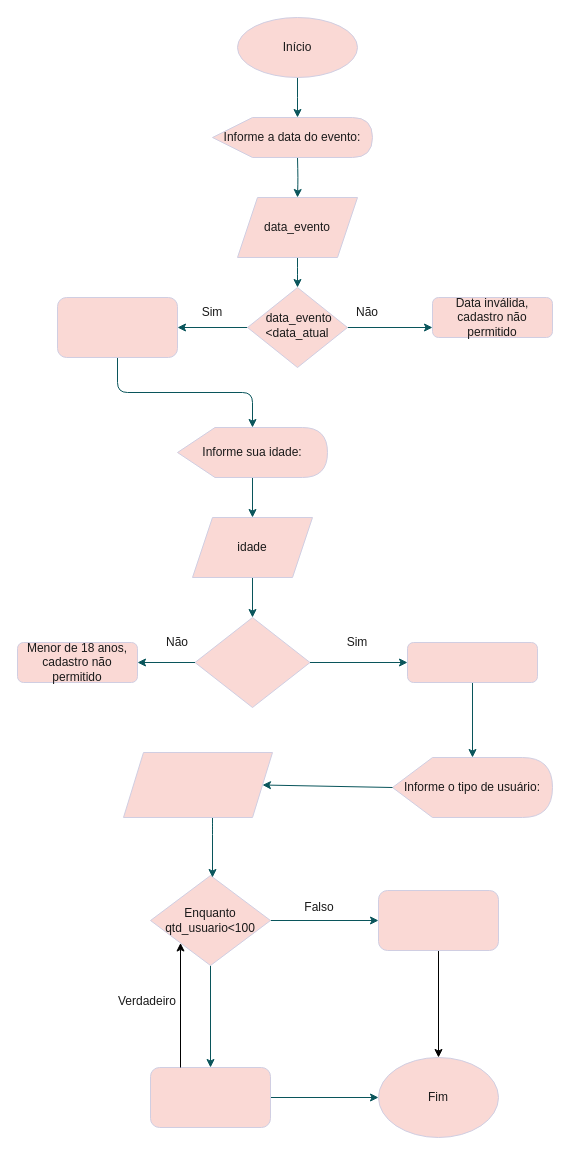
This 570x1155 diagram has some shape labels left out. Each missing label, with the centre of its shape:
Cadastro permitido: the point at 472,662
Cadastro permitido.: the point at 210,1097
Evento Permitido: the point at 117,327
idade >= 18 anos?: the point at 252,662
Limite excedido. Cadastro não permitido.: the point at 438,920
Participante/Palestrante: the point at 197,785
